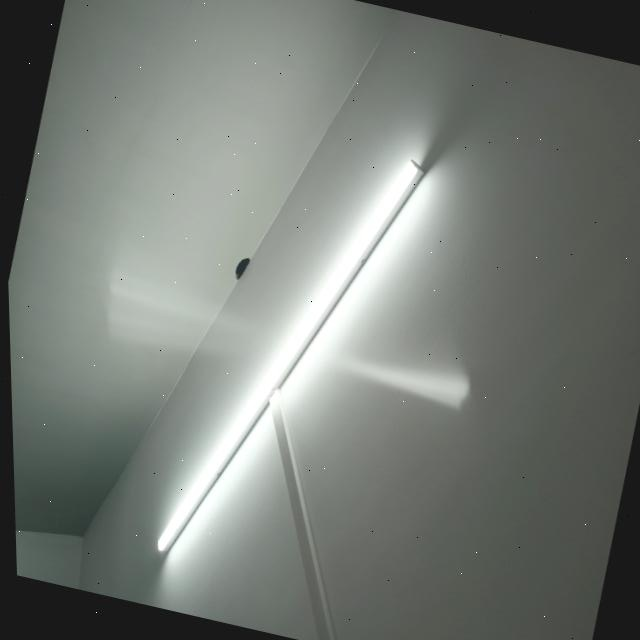fluorescent tube: (134, 104, 447, 609)
